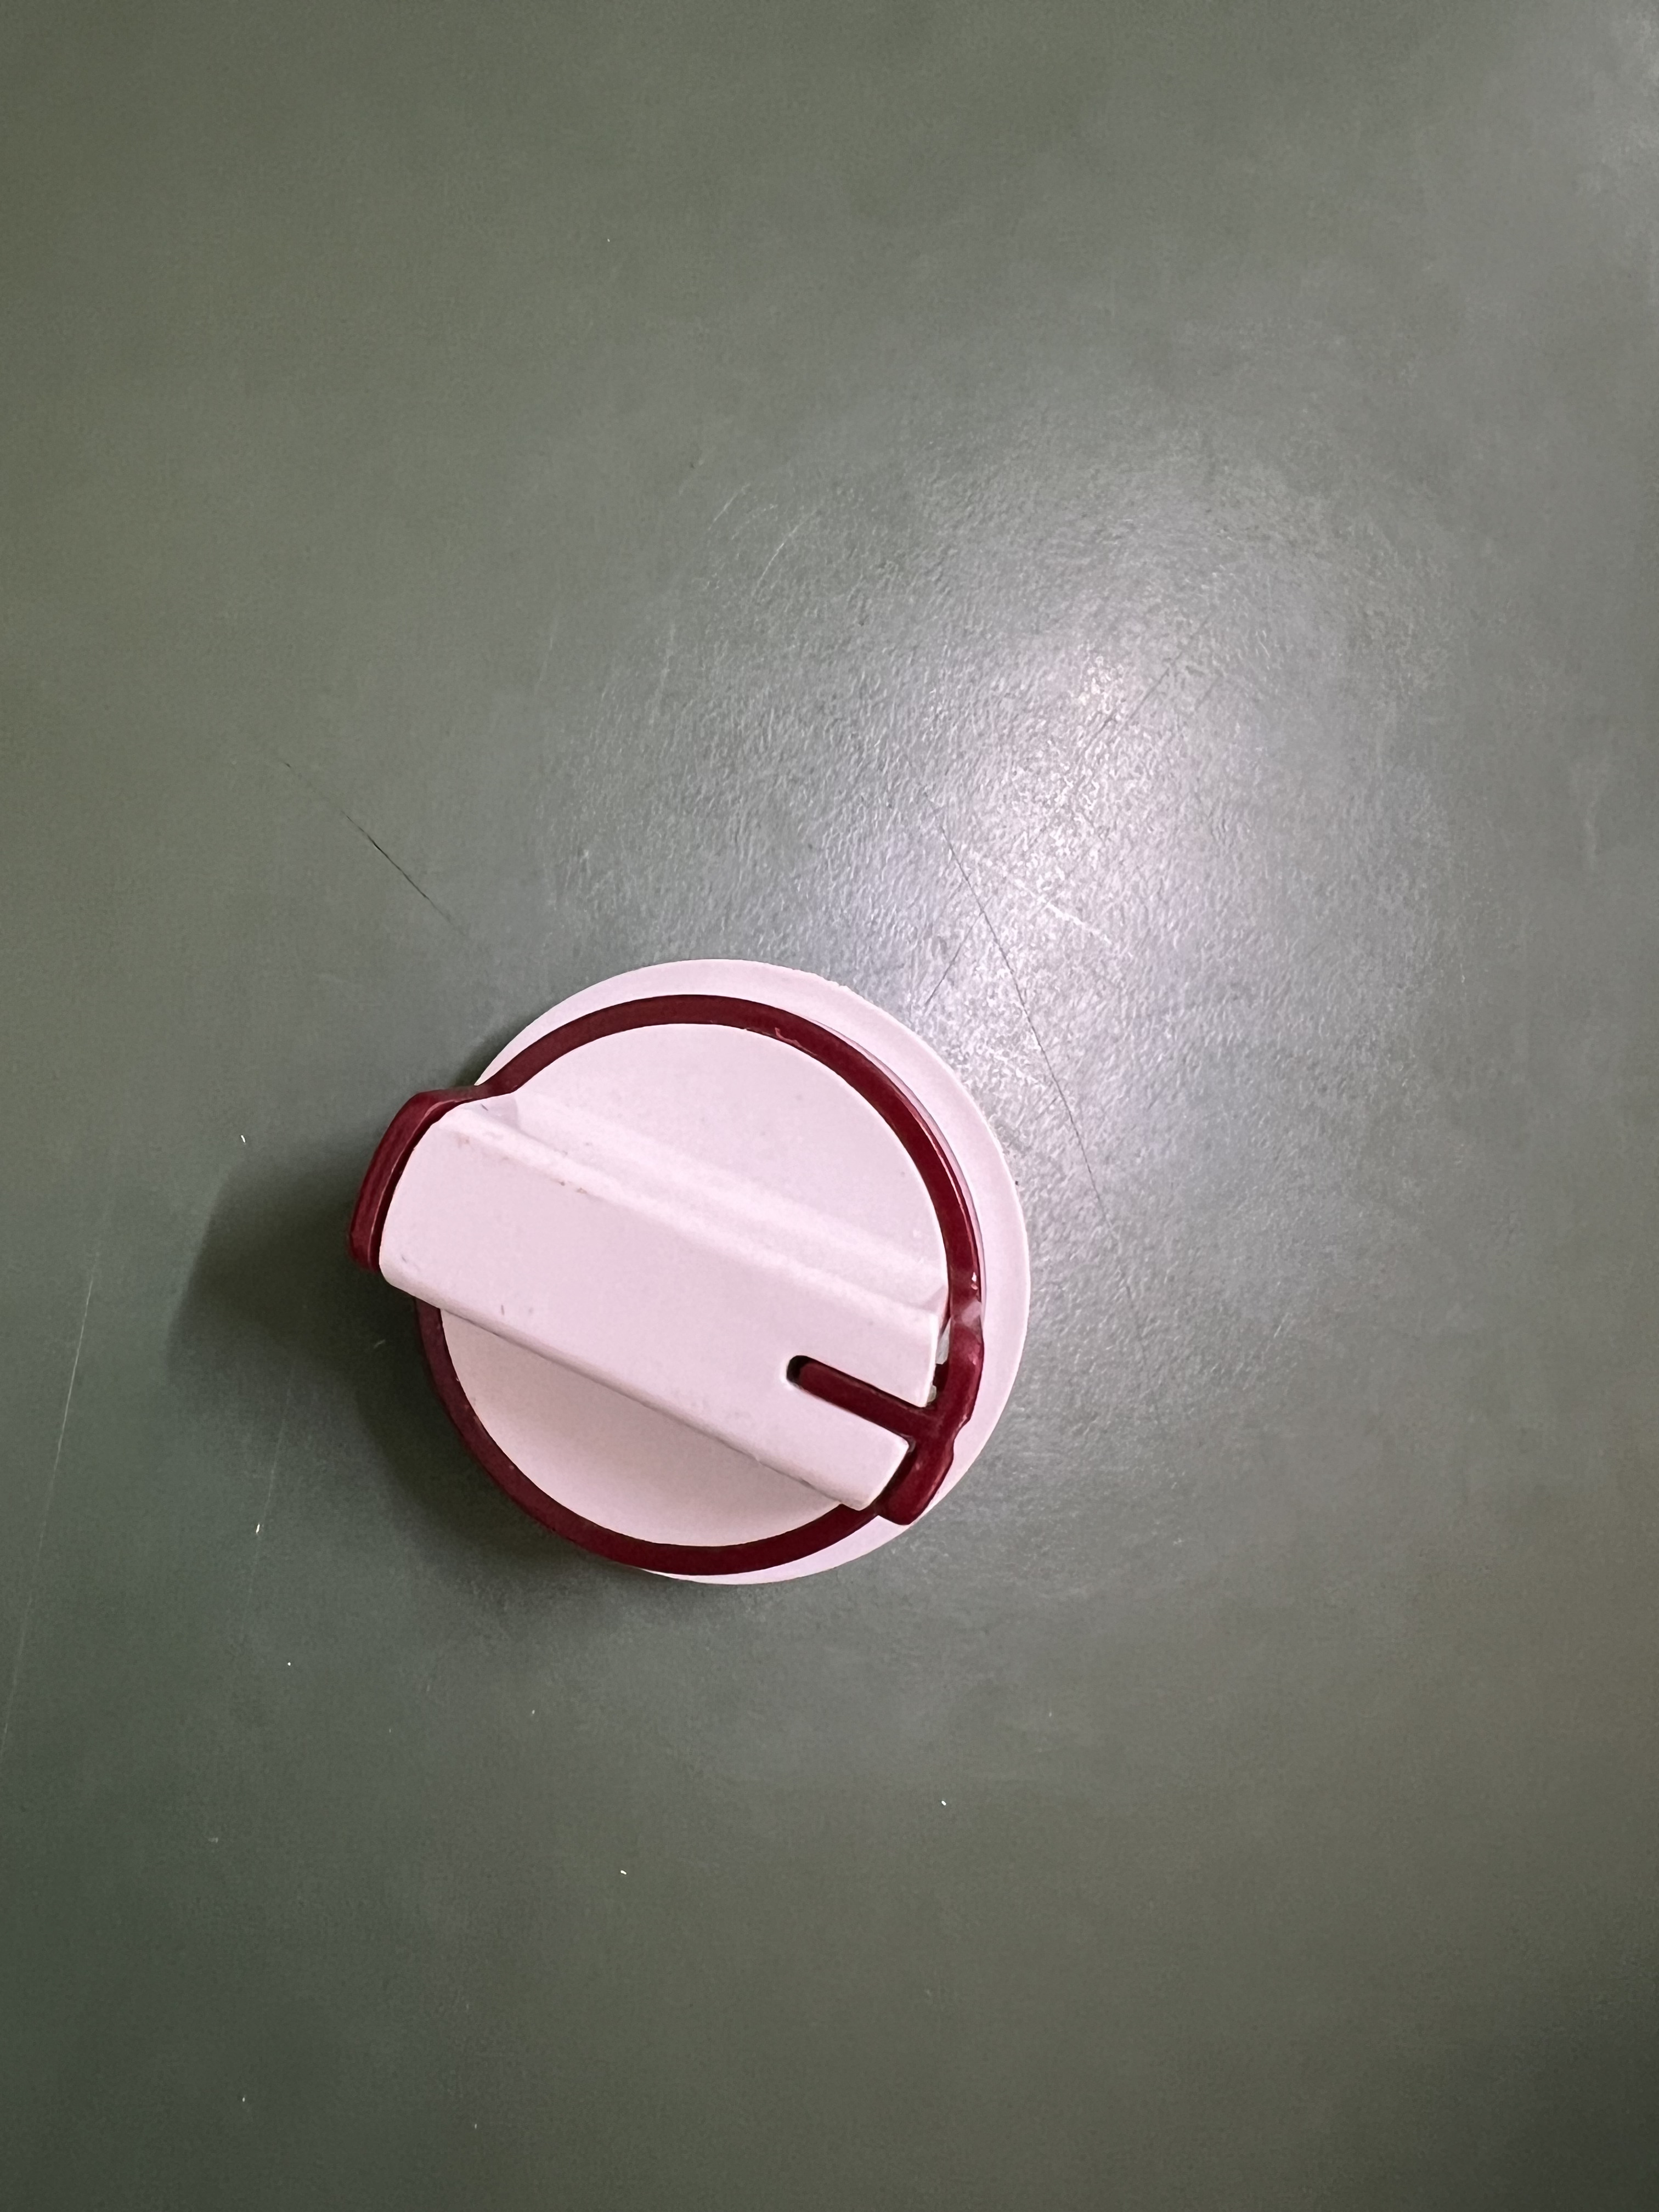regulator: (359, 895, 1063, 1634)
